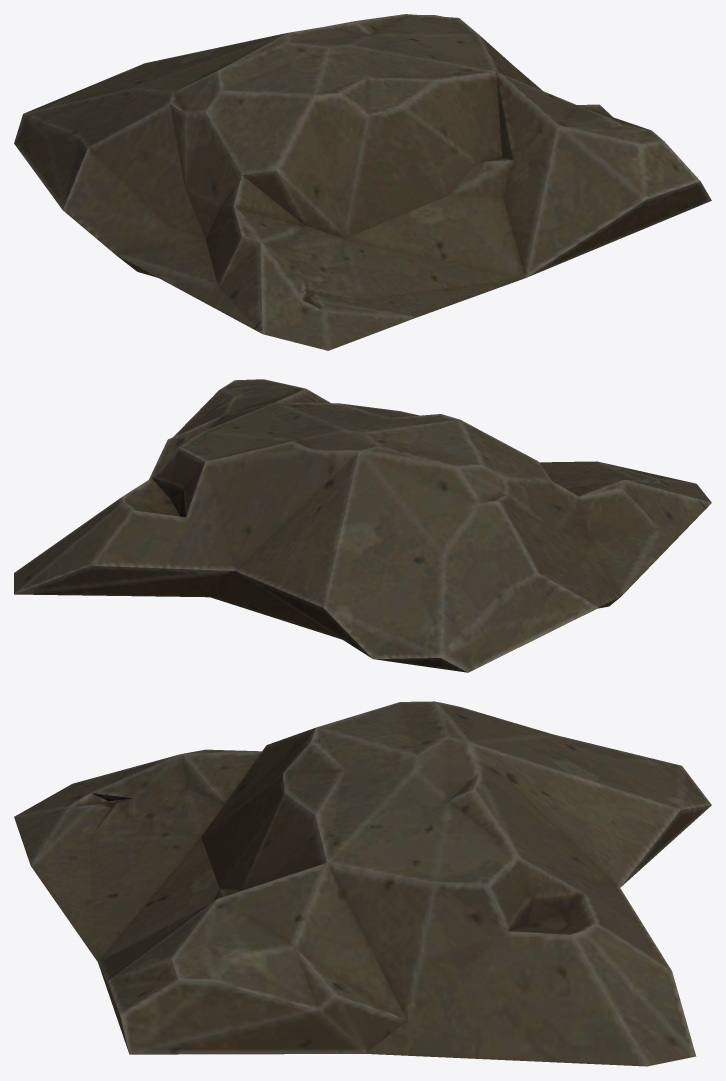
Rendered from SlagJunkCast_Polished.glb.
3 views of the same model, one above another, from view 1: azimuth 30°, elevation 25°; view 2: azimuth 150°, elevation 25°; view 3: azimuth 270°, elevation 25° (orthographic). The views are drawn at different scales.
Visible parts, largest first — view 1: SlagJunkCast_Polished; view 2: SlagJunkCast_Polished; view 3: SlagJunkCast_Polished.
Part boxes in pixels (x1,y1,x2,y2): SlagJunkCast_Polished: (14,14,711,350); SlagJunkCast_Polished: (14,379,711,672); SlagJunkCast_Polished: (14,701,711,1066).
Bounding box in the file's own units: 0.5626 × 0.1779 × 0.5611.
Materials: 1 (1 with a texture image).
